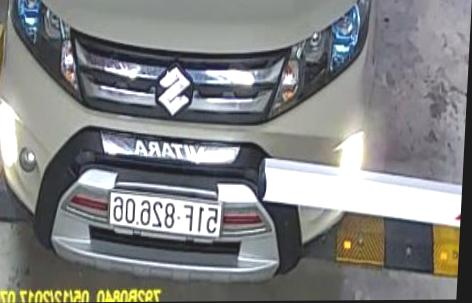License_Plate: (106, 192, 225, 237)
